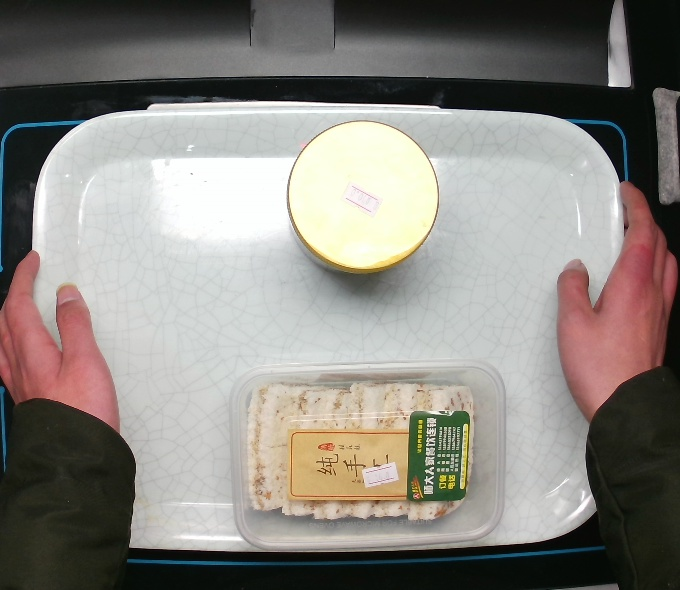wcq-GuiHuaGao: (225, 357, 509, 554)
wcq-MaiYaTang: (285, 119, 440, 277)
